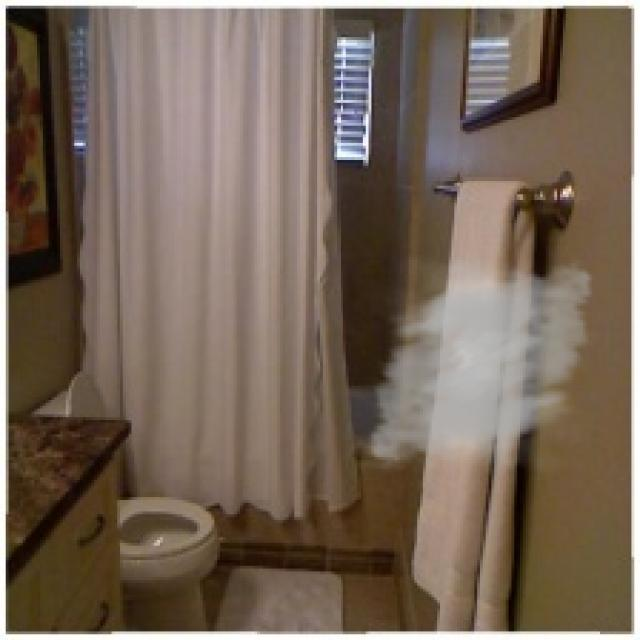smoke: (360, 248, 603, 486)
